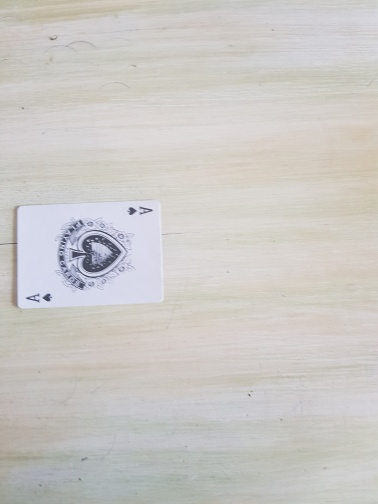ace: (15, 201, 165, 309)
